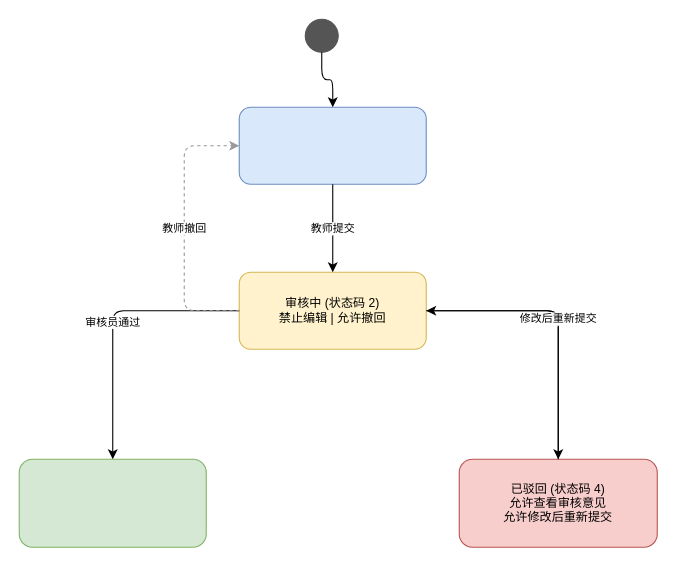
The diagram is 677 pixels wide and 567 high, and some of its shapes have lost their labels. Each missing label, with the centre of its shape:
"已通过 (状态码 3) 终态 · 禁止修改 自动推送门户公示" belongs at pixel 112 502.
"草稿 (状态码 0) 允许自由编辑 | 可提交" belongs at pixel 332 145.
